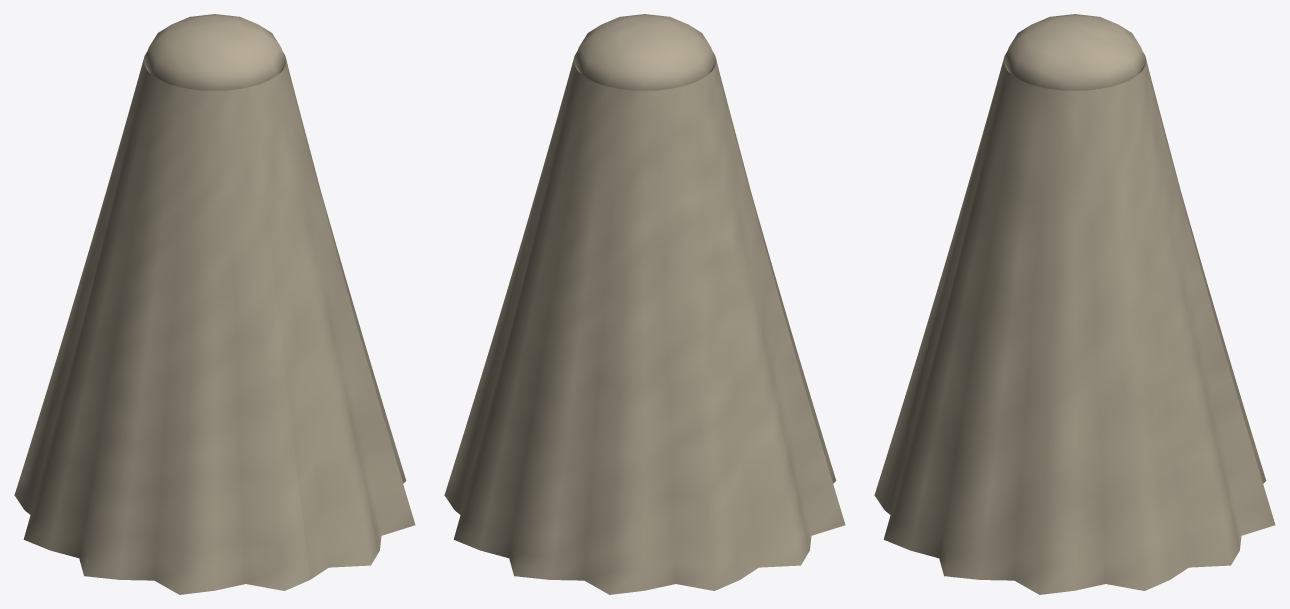
File: prop-covered-shape-v01.glb
3 views of the same model, side by side, from view 1: azimuth 30°, elevation 25°; view 2: azimuth 150°, elevation 25°; view 3: azimuth 270°, elevation 25° (orthographic).
Visible parts, largest first — view 1: covered-shape; view 2: covered-shape; view 3: covered-shape.
Boxes of the visible parts, bbox=[...] form: covered-shape: bbox=[14, 14, 415, 594]; covered-shape: bbox=[444, 14, 845, 594]; covered-shape: bbox=[874, 14, 1275, 594].
Size of the model in its own units: 1.01 by 1.35 by 1.01.
